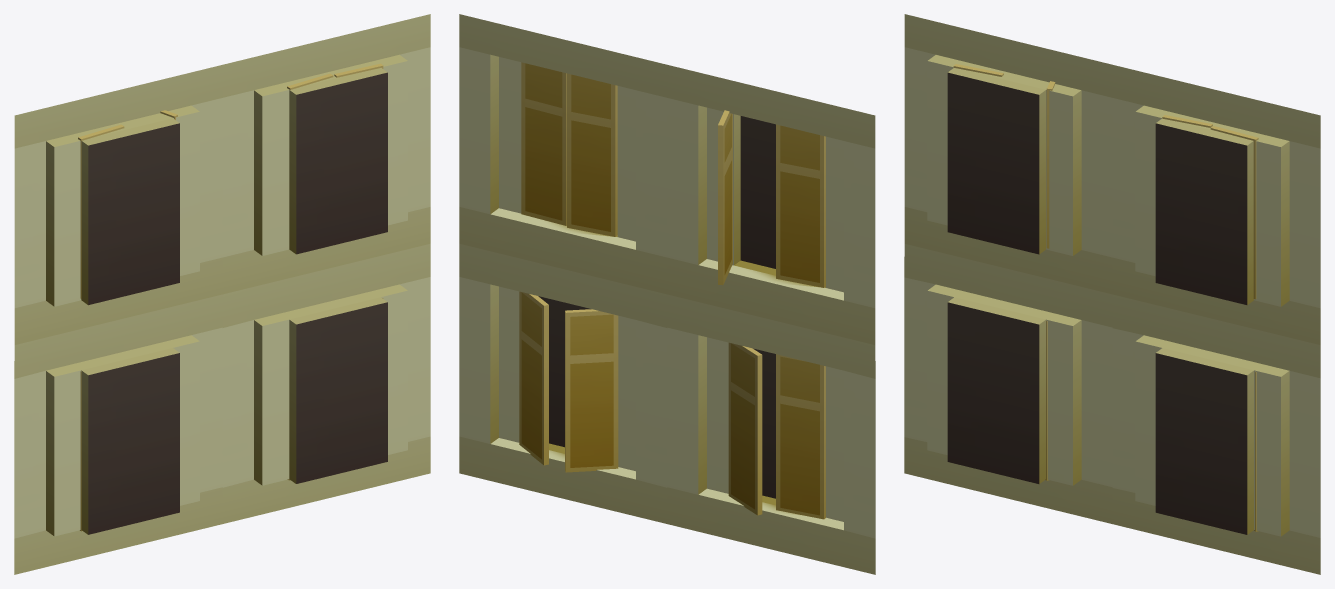
The model's file is SM_Rich_Facade_03.fbx.
3 renders of one model, left to right at view 1: azimuth 30°, elevation 25°; view 2: azimuth 150°, elevation 25°; view 3: azimuth 330°, elevation 25°, orthographic.
Visible parts, largest first — view 1: SM_Rich_Facade_03; view 2: SM_Rich_Facade_03; view 3: SM_Rich_Facade_03.
Part boxes in pixels (x1,y1,x2,y2): SM_Rich_Facade_03: (14, 14, 430, 574); SM_Rich_Facade_03: (459, 14, 875, 574); SM_Rich_Facade_03: (904, 14, 1320, 574).
Size of the model in its own units: 6.01 by 6.33 by 0.8071.
